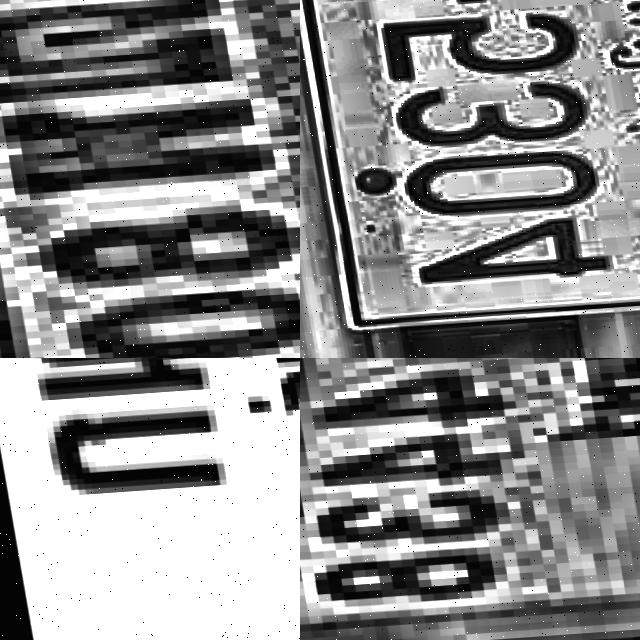license-plate: (300, 0, 640, 332), (0, 0, 300, 358), (300, 358, 640, 640), (0, 358, 300, 640)
